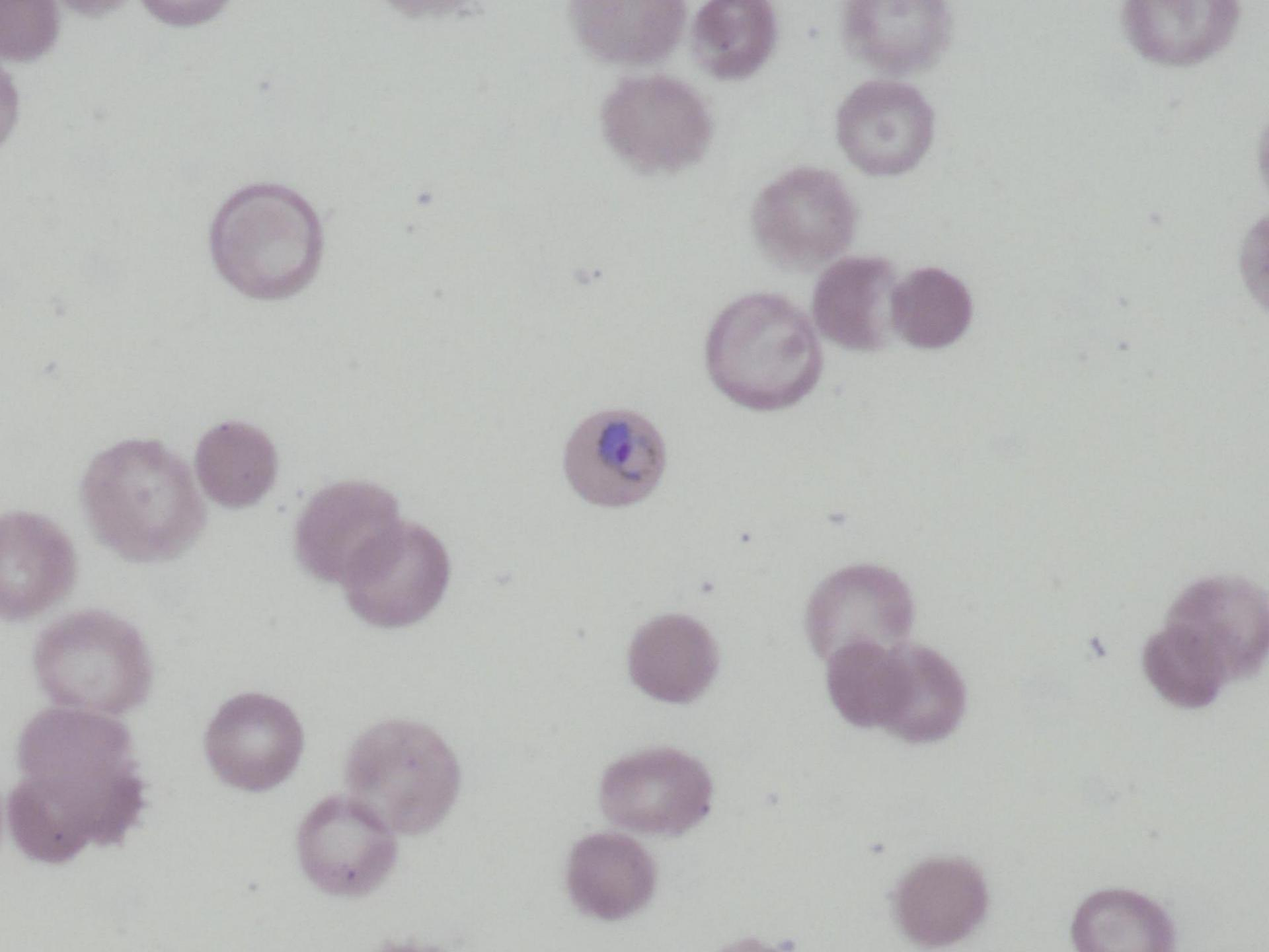Infected: (564, 410, 666, 505)
Uninfected: (81, 441, 206, 562), (210, 180, 319, 299), (707, 295, 822, 406), (348, 723, 461, 834), (34, 612, 149, 714), (601, 76, 711, 171), (13, 717, 131, 802), (601, 749, 711, 838), (752, 168, 853, 264), (297, 482, 399, 577), (206, 694, 304, 789), (298, 799, 395, 894), (837, 80, 936, 173), (1173, 580, 1266, 678), (346, 534, 445, 626), (810, 565, 912, 654), (892, 857, 989, 946), (812, 255, 900, 347), (627, 616, 718, 702), (829, 643, 919, 728), (843, 0, 950, 70), (567, 833, 654, 919), (0, 513, 75, 612), (1140, 623, 1223, 710), (1123, 1, 1236, 61), (197, 423, 275, 508), (573, 0, 681, 61), (890, 266, 972, 346), (890, 656, 966, 741), (694, 1, 778, 75), (1071, 890, 1171, 952), (8, 787, 82, 863)
